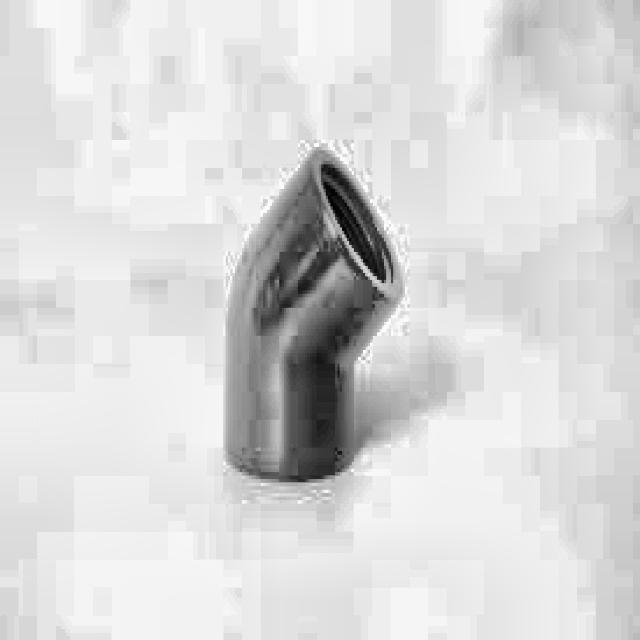ELBOW45: (221, 150, 407, 486)
